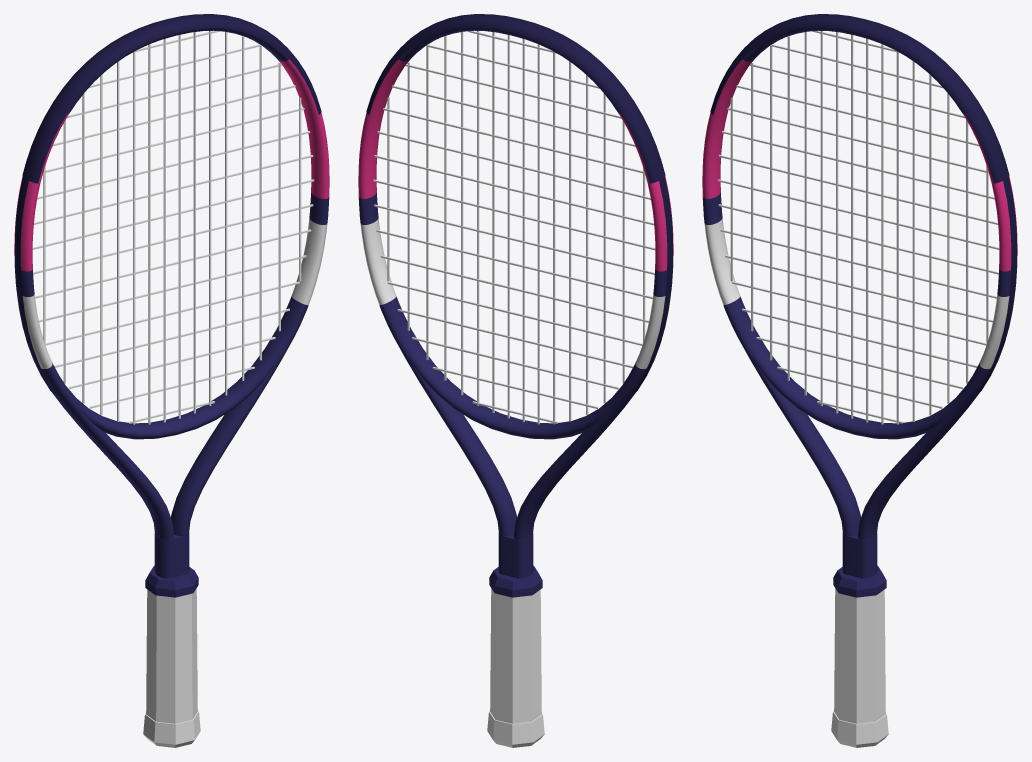
Rendered from babolat-b-fly-23-2023.glb.
The picture shows the model from 3 angles, left to right: view 1: azimuth 30°, elevation 25°; view 2: azimuth 150°, elevation 25°; view 3: azimuth 330°, elevation 25°; orthographic projection.
Visible parts, largest first — view 1: frame, strings_mains, strings_crosses, grip, bumper, butt_cap, grommets, collar; view 2: frame, strings_mains, strings_crosses, grip, bumper, butt_cap, grommets, collar; view 3: frame, strings_mains, strings_crosses, grip, bumper, butt_cap, grommets, collar.
Part boxes in pixels (<box>): frame: <box>14,27,329,578</box>; strings_mains: <box>43,31,301,424</box>; strings_crosses: <box>32,30,314,423</box>; grip: <box>146,588,197,723</box>; bumper: <box>22,14,321,183</box>; butt_cap: <box>143,711,200,747</box>; grommets: <box>14,177,55,393</box>; collar: <box>145,565,198,597</box>; frame: <box>358,27,673,578</box>; strings_mains: <box>387,31,645,424</box>; strings_crosses: <box>373,31,655,423</box>; grip: <box>490,588,541,723</box>; bumper: <box>366,14,665,183</box>; butt_cap: <box>487,711,544,747</box>; grommets: <box>632,177,673,393</box>; collar: <box>489,565,542,597</box>; frame: <box>702,27,1017,578</box>; strings_mains: <box>730,31,988,424</box>; strings_crosses: <box>717,30,999,423</box>; grip: <box>834,588,885,723</box>; bumper: <box>710,14,1009,183</box>; butt_cap: <box>831,711,888,747</box>; grommets: <box>976,177,1017,393</box>; collar: <box>833,565,886,597</box>.
Size of the model in its own units: 0.2646 by 0.5845 by 0.0396.
